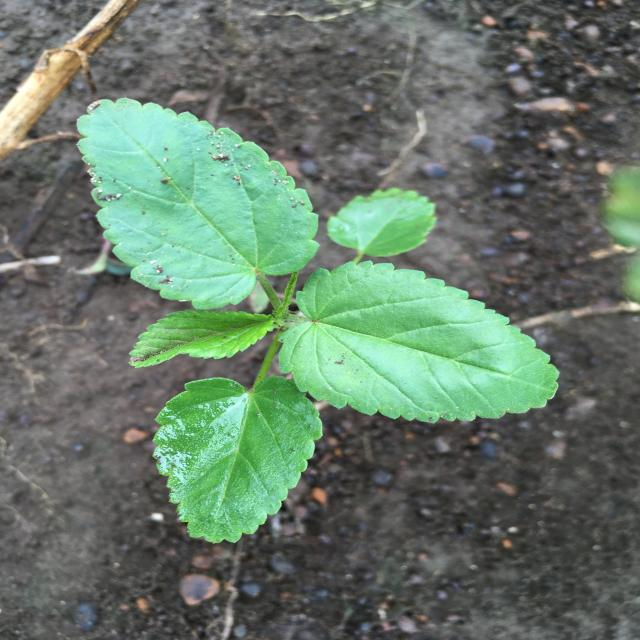PricklySida: (75, 96, 561, 544)
